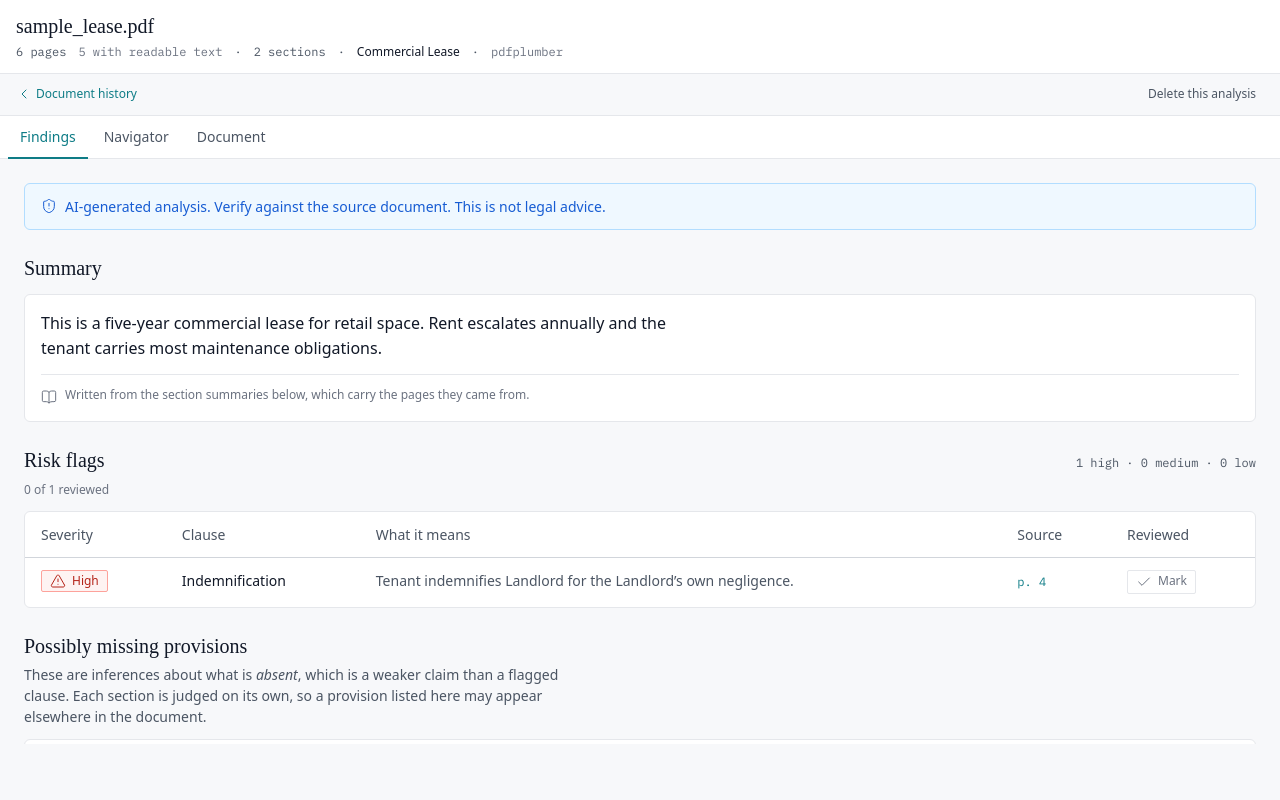
Test: a stored analysis › requires confirmation before deleting
Click the button "Delete this analysis" at (1202, 94), box [1140,82,1264,107]
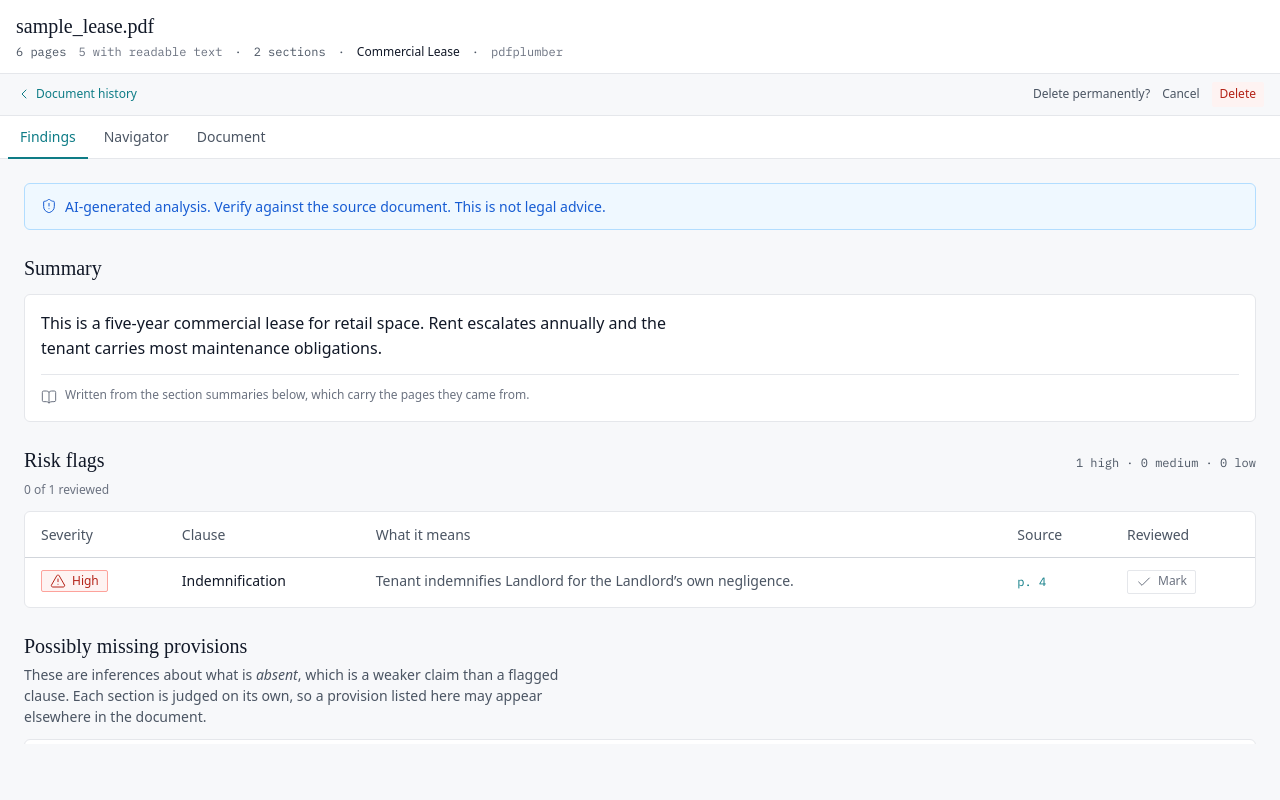
Check: the text "Delete permanently?" is shown, box [1033,86,1150,103]
